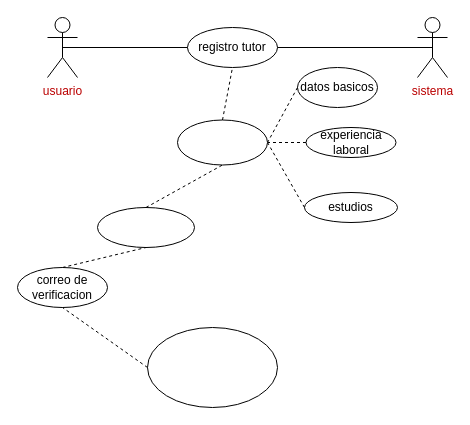
Some shapes in this 470 by 425 pixel diagram are drawn without their labels. The box of each missing label's shape, as (x1, y1, x2, y2) in pixels:
agregar las credenciales de tutor al usuario en la plataforma: (146, 326, 278, 408)
ingreso de datos: (176, 119, 268, 165)
validacion de datos: (96, 206, 194, 248)
